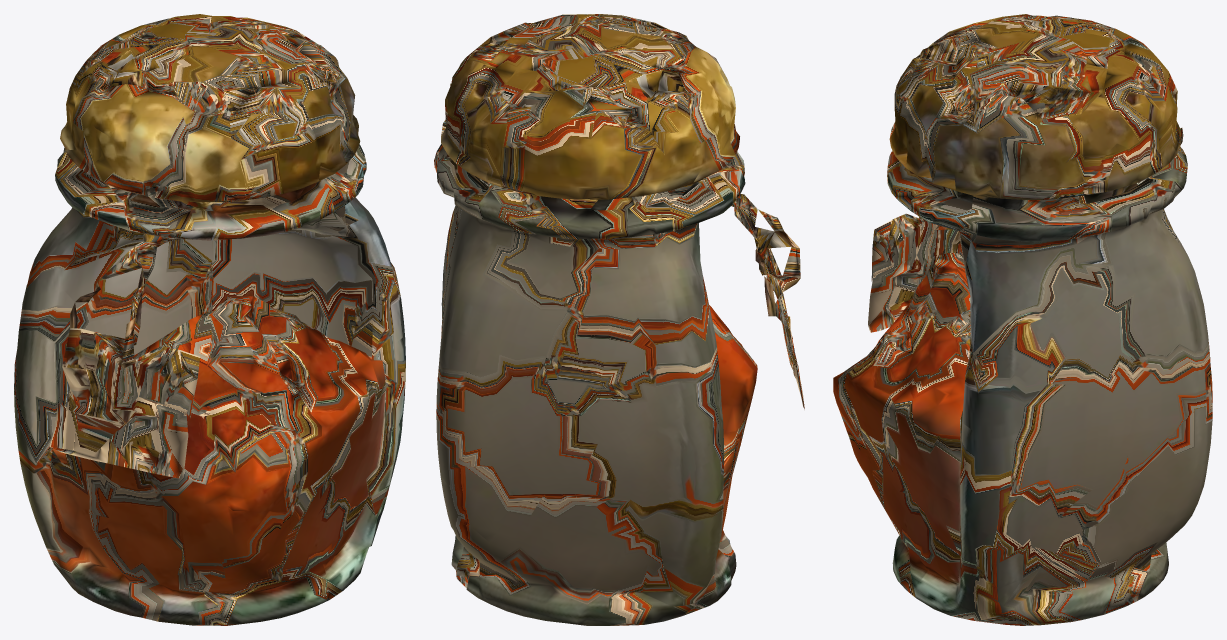
File: jar.glb
3 views of the same model, side by side, from view 1: azimuth 30°, elevation 25°; view 2: azimuth 150°, elevation 25°; view 3: azimuth 270°, elevation 25° (orthographic).
Visible parts, largest first — view 1: tripo_node_ebcc10ba-eeb3-48ea-8da5-b0ddcde6a99e; view 2: tripo_node_ebcc10ba-eeb3-48ea-8da5-b0ddcde6a99e; view 3: tripo_node_ebcc10ba-eeb3-48ea-8da5-b0ddcde6a99e.
Part boxes in pixels (x1,y1,x2,y2): tripo_node_ebcc10ba-eeb3-48ea-8da5-b0ddcde6a99e: (14, 14, 405, 625); tripo_node_ebcc10ba-eeb3-48ea-8da5-b0ddcde6a99e: (434, 14, 804, 625); tripo_node_ebcc10ba-eeb3-48ea-8da5-b0ddcde6a99e: (833, 14, 1212, 625).
Size of the model in its own units: 0.6867 by 0.9788 by 0.6403.
Materials: 1 (1 with a texture image).
